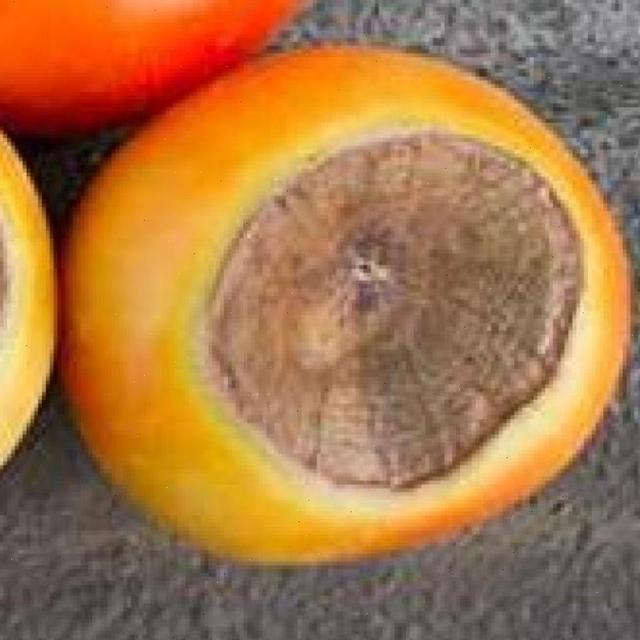Blossom End Rot Fruit: (4, 116, 260, 254)
